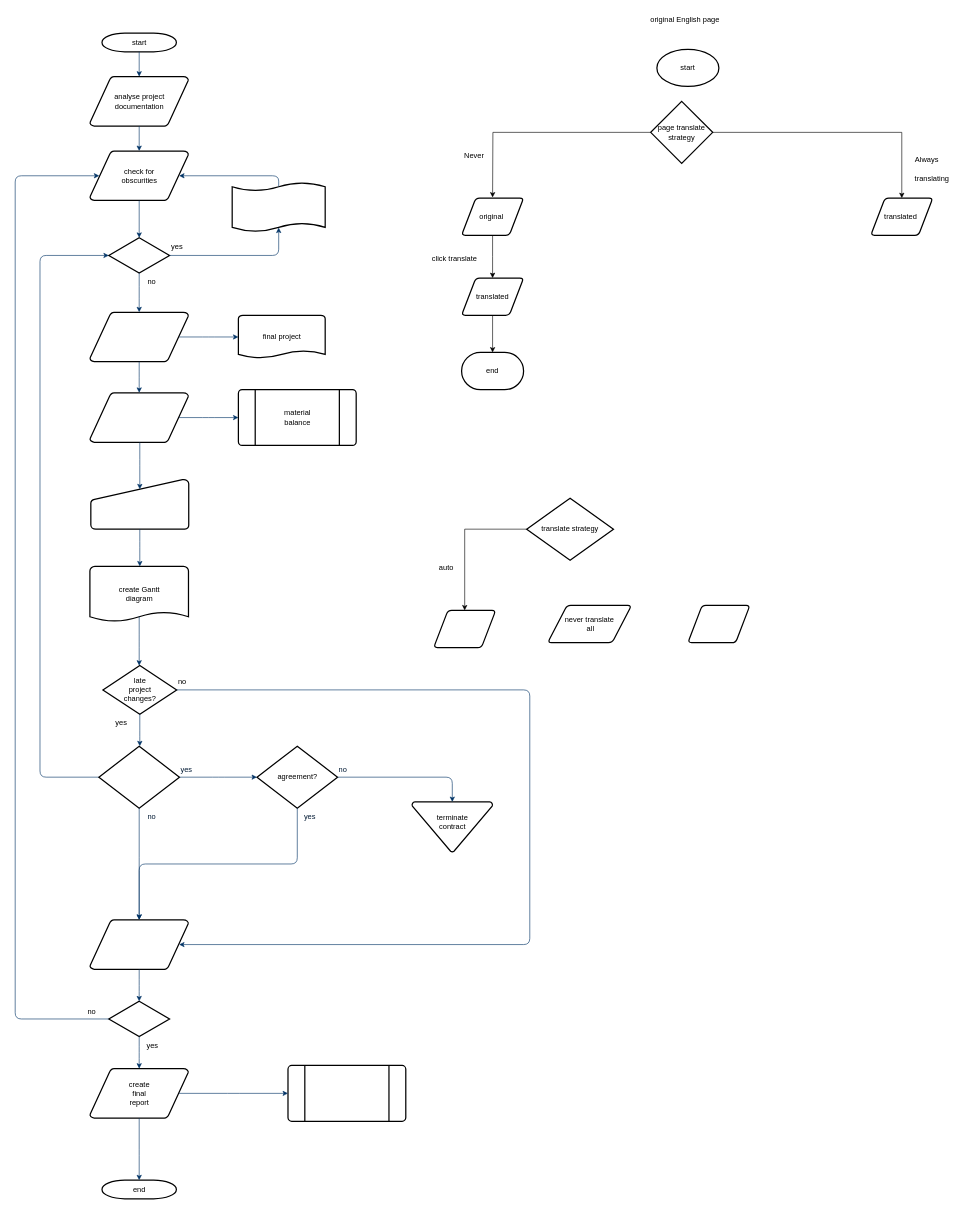
Image size: 968x1210. Some labels were removed from this diagram. The shapes that lost their labels are listed below. From the top down, each one's box as (x1, y1, x2, y2) in pixels, then its label:
(231, 181, 326, 232): iron out obscurities with investor
(108, 237, 170, 273): obscurities?
(89, 311, 189, 362): create material specification
(89, 392, 189, 443): order material
(90, 479, 189, 529): organize workforce
(433, 609, 496, 648): judge percentage
(98, 745, 180, 808): investor disapproves investment?
(89, 919, 189, 970): create status report
(108, 1000, 170, 1037): project complete?
(287, 1065, 406, 1122): issue bill of works
